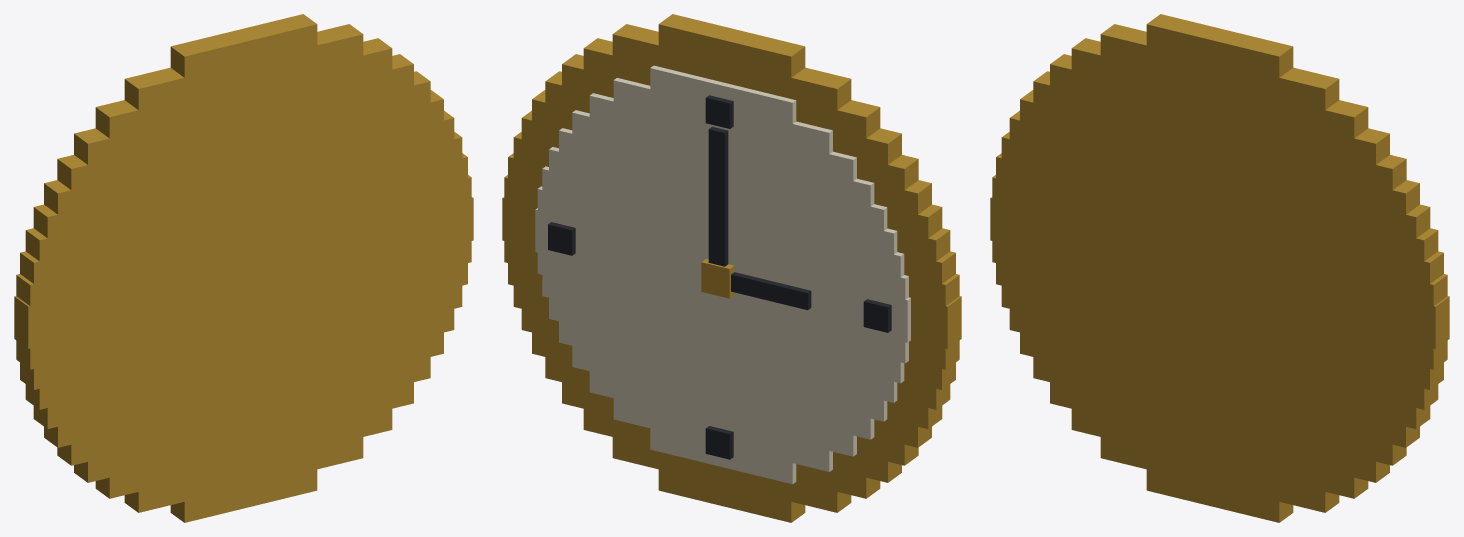
File: cp-clock.glb
3 views of the same model, side by side, from view 1: azimuth 30°, elevation 25°; view 2: azimuth 150°, elevation 25°; view 3: azimuth 330°, elevation 25° (orthographic).
Parts seen in each view (by area): view 1: box-prop; view 2: box-prop; view 3: box-prop.
Part boxes in pixels (box(x1,y1,x2,y2)): box-prop: box(14, 14, 473, 522); box-prop: box(502, 14, 961, 522); box-prop: box(990, 14, 1449, 522).
Bounding box in the file's own units: 2.2 × 2.2 × 0.2.
